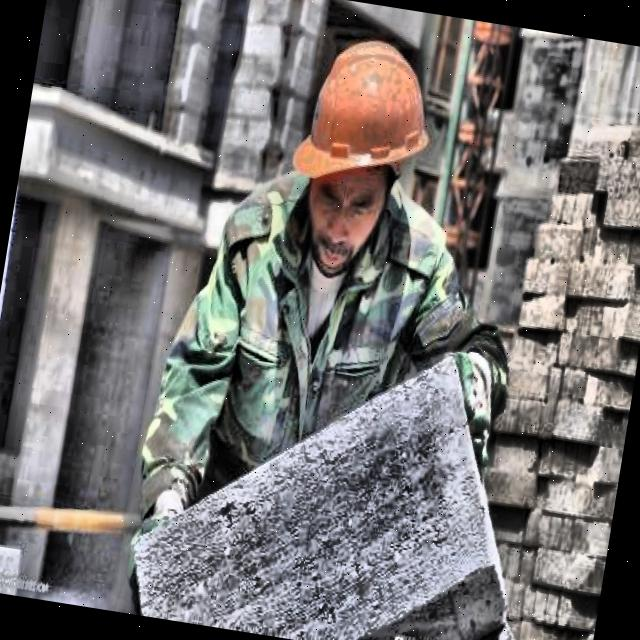helmet: (272, 7, 453, 276)
